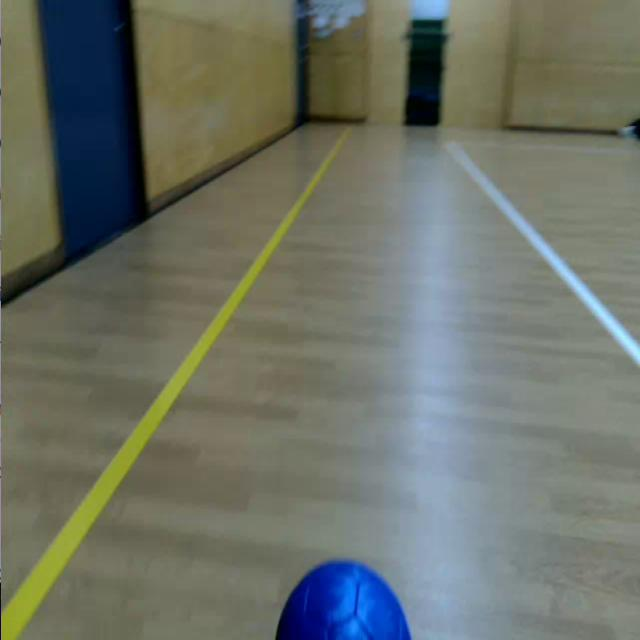blue_ball: (276, 558, 412, 640)
